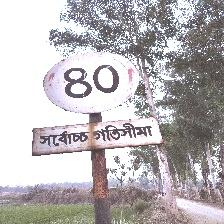Speed-limit: (35, 51, 162, 156)
